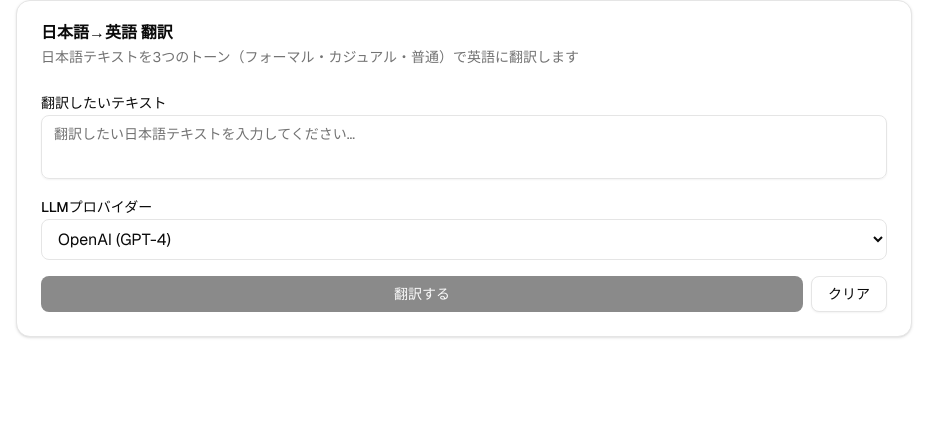
it: TranslationForm › should handle network errors
Type "こんにちは" into the text box with placeholder "翻訳したい日本語テキストを入力してください...". click: (464, 147)
box: x1=41 y1=115 x2=887 y2=179
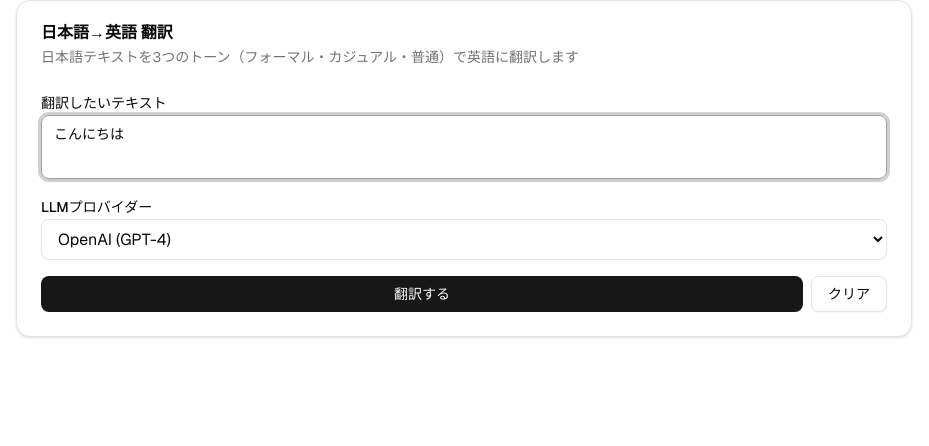
Click the button "翻訳する". click: (422, 294)
box: x1=41 y1=276 x2=803 y2=312
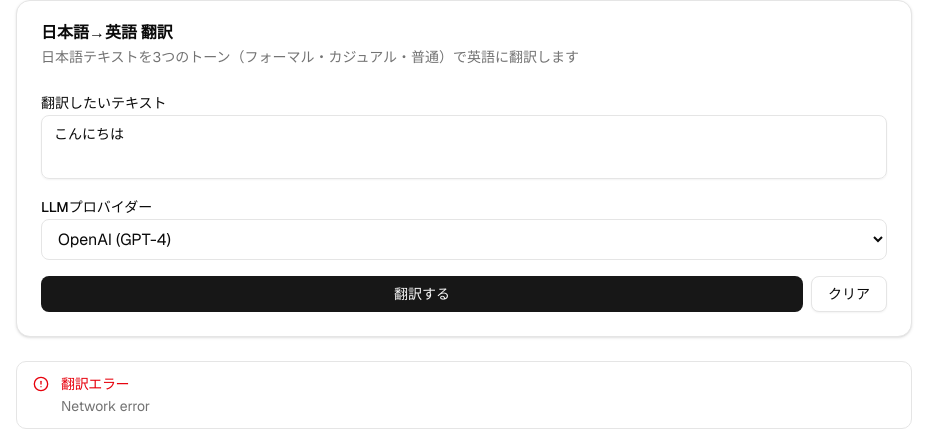
Expected: the text "Network error" is shown, x1=61 y1=397 x2=150 y2=415
